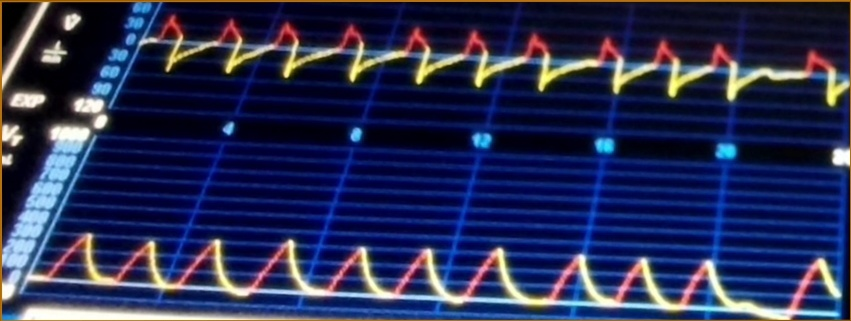Ineffective_effort Flow: (150, 10, 849, 114)
Ineffective_effort Volume: (44, 224, 839, 319)
